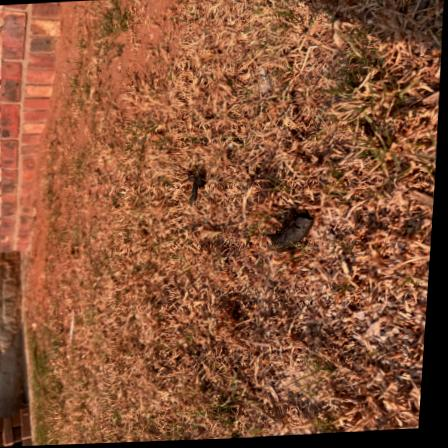dog-poop: (251, 206, 327, 264), (178, 170, 215, 210)
